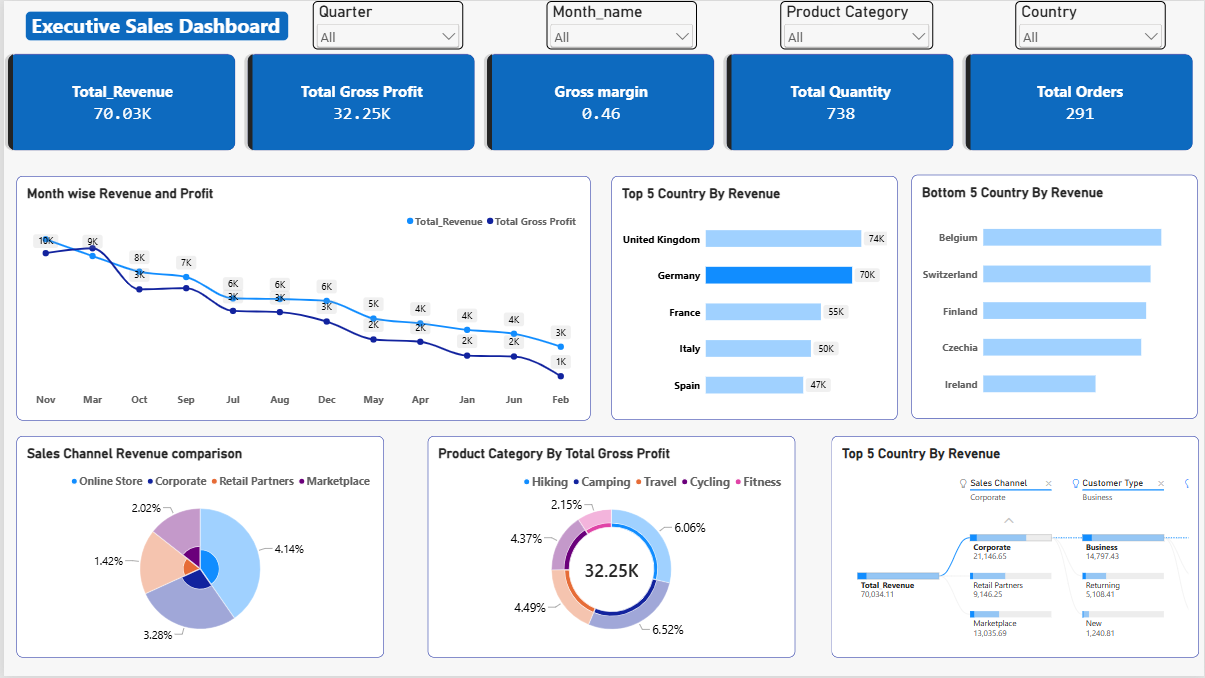

The dashboard page shown, as its layout file describes it:
{"tool":"powerbi","page":{"name":"Page 1","canvas":[1920,1080],"ordinal":0},"visuals":[{"type":"cardVisual","fields":{"Data":["All_measures.Total_Revenue","All_measures.Total Gross Profit","All_measures.Gross margin","All_measures.Total Quantity","All_measures.Total Orders"]},"box":[0,77.3,1911.9,168.5],"z":0},{"type":"clusteredBarChart","title":"Top 5 Country By Revenue","fields":{"Category":["SalesDataTable.Country"],"Y":["All_measures.Total_Revenue"]},"box":[971.5,280.3,457.9,390.8],"z":0},{"type":"textbox","box":[33.1,16.6,421.5,47.9],"z":1000},{"type":"clusteredBarChart","title":"Bottom 5 Country By Revenue","fields":{"Category":["SalesDataTable.Country"],"Y":["All_measures.Total_Revenue"]},"box":[1452.2,277.9,457.9,390.8],"z":1000},{"type":"slicer","fields":{"Values":["Date_table.Quater"]},"box":[493.3,0,241,77.3],"z":2000,"group":"g1"},{"type":"group","id":"g1","title":"Group 1","box":[493.3,0,1365.7,77.3],"z":2000},{"type":"slicer","fields":{"Values":["Date_table.Month_name"]},"box":[866.9,0,241,77.3],"z":3000,"group":"g1"},{"type":"lineChart","title":"Month wise Revenue and Profit","fields":{"Category":["Date_table.Month_name"],"Y":["All_measures.Total_Revenue"],"Y2":["All_measures.Total Gross Profit"]},"box":[20.6,279.9,918,391.1],"z":3000},{"type":"slicer","fields":{"Values":["SalesDataTable.Product Category"]},"box":[1240.5,0,244.8,77.3],"z":4000,"group":"g1"},{"type":"pieChart","title":"Sales Channel Revenue comparison ","fields":{"Category":["SalesDataTable.Sales Channel"],"Y":["All_measures.Total_Revenue"]},"box":[20.6,695.7,588.2,354],"z":4000},{"type":"slicer","fields":{"Values":["SalesDataTable.Country"]},"box":[1618,0,241,77.3],"z":5000,"group":"g1"},{"type":"decompositionTreeVisual","title":"Top 5 Country By Revenue","fields":{"Analyze":["All_measures.Total_Revenue"],"ExplainBy":["SalesDataTable.Sales Channel","SalesDataTable.Customer Type","SalesDataTable.Product Category","SalesDataTable.Country"]},"box":[1323.5,695.7,588.2,354],"z":6000},{"type":"donutChart","title":"Product Category By Total Gross Profit","fields":{"Category":["SalesDataTable.Product Category"],"Y":["All_measures.Total Gross Profit"]},"box":[677.2,695.7,588.2,354],"z":7000}]}

Visuals, with their boxes in screenshot pixels (x1, y1, x2, y2), scaled from the page's 1920x1080 canvas onto the 1205x678 screenshot:
cardVisual - All_measures.Total_Revenue x All_measures.Total Gross Profit: x1=0 y1=49 x2=1200 y2=154
"Top 5 Country By Revenue" clusteredBarChart: x1=610 y1=176 x2=897 y2=421
textbox: x1=21 y1=10 x2=285 y2=40
"Bottom 5 Country By Revenue" clusteredBarChart: x1=911 y1=174 x2=1199 y2=420
slicer - Date_table.Quater: x1=310 y1=0 x2=461 y2=49
"Group 1" group: x1=310 y1=0 x2=1167 y2=49
slicer - Date_table.Month_name: x1=544 y1=0 x2=695 y2=49
"Month wise Revenue and Profit" lineChart: x1=13 y1=176 x2=589 y2=421
slicer - SalesDataTable.Product Category: x1=779 y1=0 x2=932 y2=49
"Sales Channel Revenue comparison " pieChart: x1=13 y1=437 x2=382 y2=659
slicer - SalesDataTable.Country: x1=1015 y1=0 x2=1167 y2=49
"Top 5 Country By Revenue" decompositionTreeVisual: x1=831 y1=437 x2=1200 y2=659
"Product Category By Total Gross Profit" donutChart: x1=425 y1=437 x2=794 y2=659
